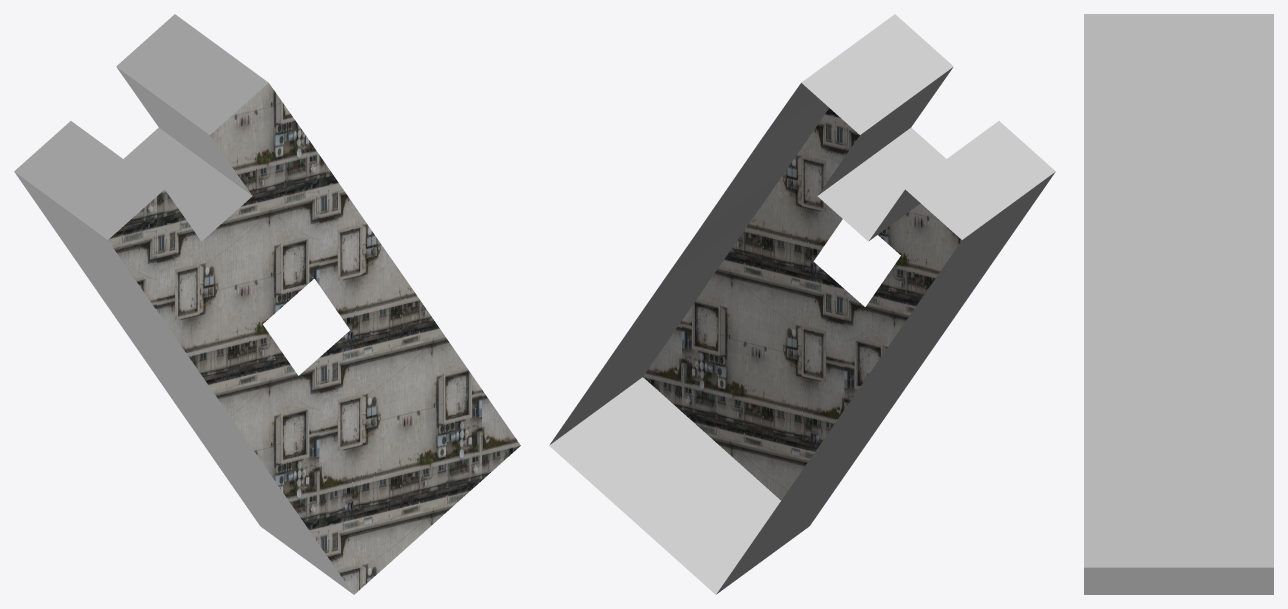
Rendered from geospecific_111.obj.
3 views of the same model, side by side, from view 1: azimuth 30°, elevation 25°; view 2: azimuth 150°, elevation 25°; view 3: azimuth 270°, elevation 25° (orthographic).
Parts seen in each view (by area): view 1: Building; view 2: Building; view 3: Building.
Boxes of the visible parts, <box> form: Building: <box>14,14,520,594</box>; Building: <box>549,14,1055,594</box>; Building: <box>1084,14,1273,594</box>.
Size of the model in its own units: 22.87 by 28.21 by 9.
